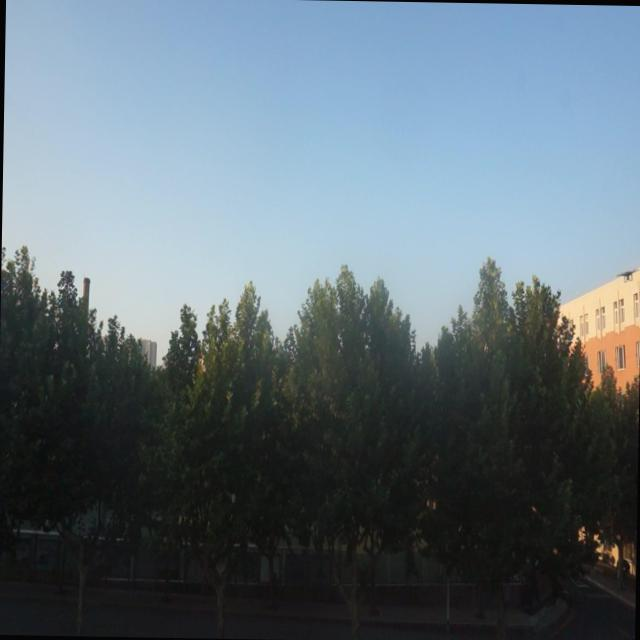drone: (617, 262, 640, 290)
